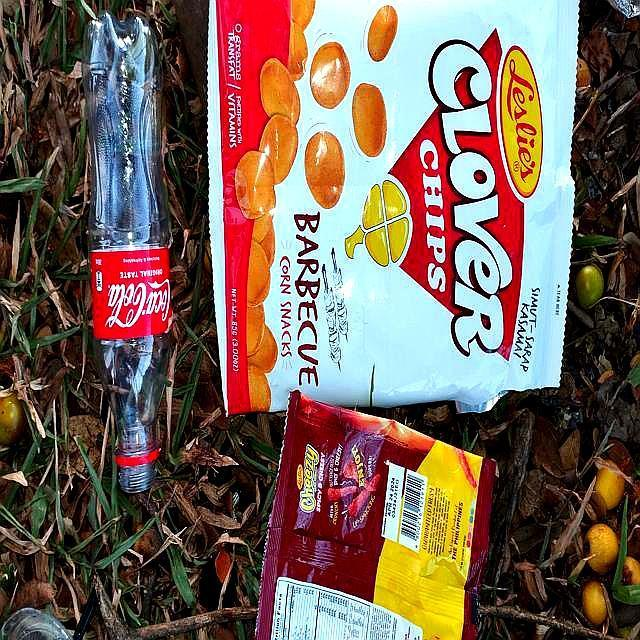Non-biodegradable: (207, 1, 573, 412), (253, 386, 508, 640), (81, 11, 179, 498)
